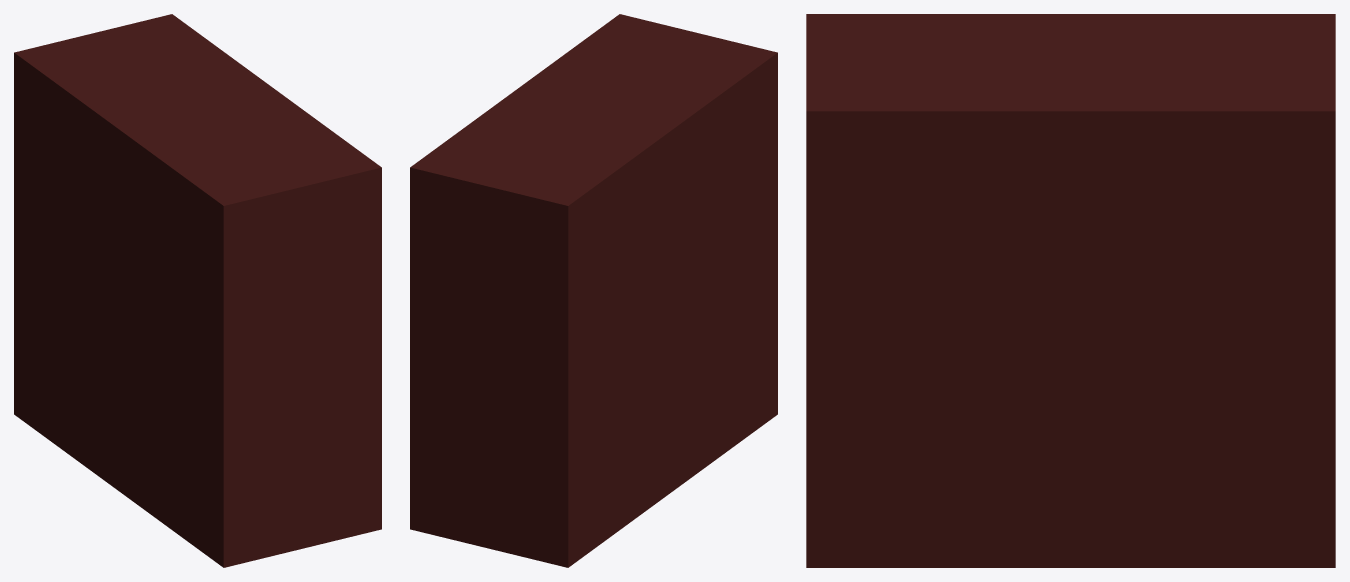
Rendered from Itr_Obj_Desktop_02.FBX.
3 renders of one model, left to right at view 1: azimuth 30°, elevation 25°; view 2: azimuth 150°, elevation 25°; view 3: azimuth 270°, elevation 25°, orthographic. The views are drawn at different scales.
Parts seen in each view (by area): view 1: Itr_Obj_Desktop_02; view 2: Itr_Obj_Desktop_02; view 3: Itr_Obj_Desktop_02.
Boxes of the visible parts, x1,y1,x2,y2 form: Itr_Obj_Desktop_02: (14, 14, 381, 567); Itr_Obj_Desktop_02: (410, 14, 777, 567); Itr_Obj_Desktop_02: (806, 14, 1335, 567).
Bounding box in the file's own units: 10.22 × 22.36 × 23.48.
